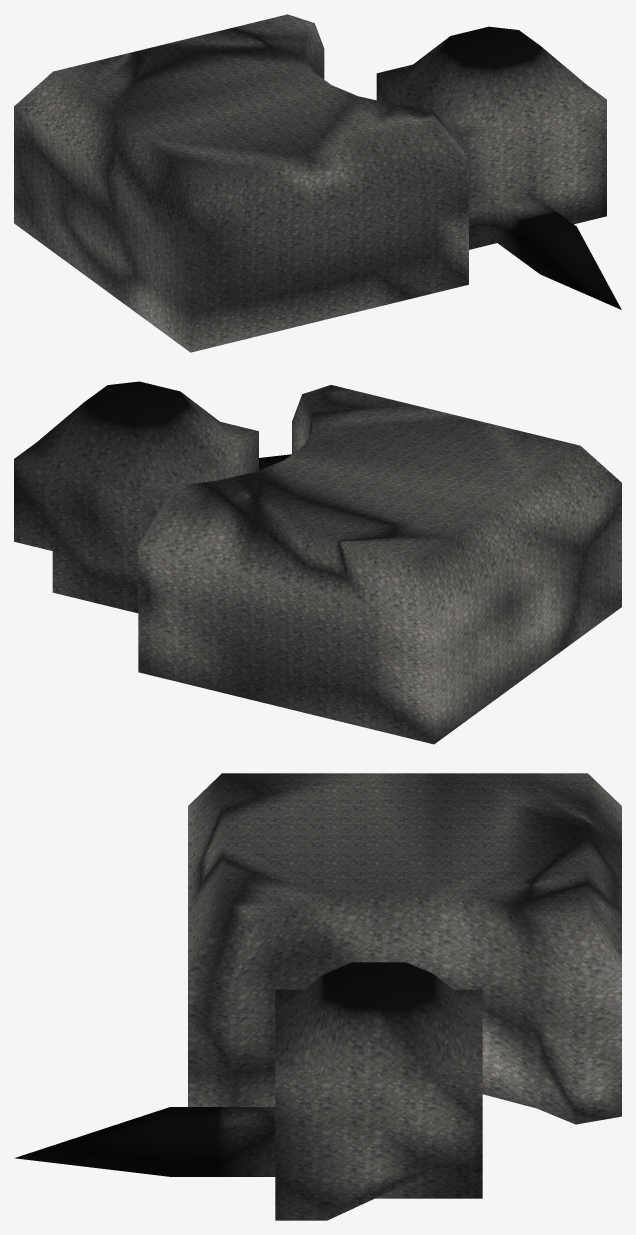
Rendered from test_room.glb.
3 views of the same model, one above another, from view 1: azimuth 30°, elevation 25°; view 2: azimuth 150°, elevation 25°; view 3: azimuth 270°, elevation 25° (orthographic). The views are drawn at different scales.
Visible parts, largest first — view 1: side_room, test_room; view 2: side_room, test_room; view 3: side_room, test_room.
Part boxes in pixels (x1,y1,x2,y2): side_room: (14,14,468,352); test_room: (376,26,621,309); side_room: (138,385,621,744); test_room: (14,381,291,613); side_room: (188,773,621,1124); test_room: (14,962,482,1220).
Size of the model in its own units: 60.73 by 20 by 57.58.
Materials: 2 (1 with a texture image).
